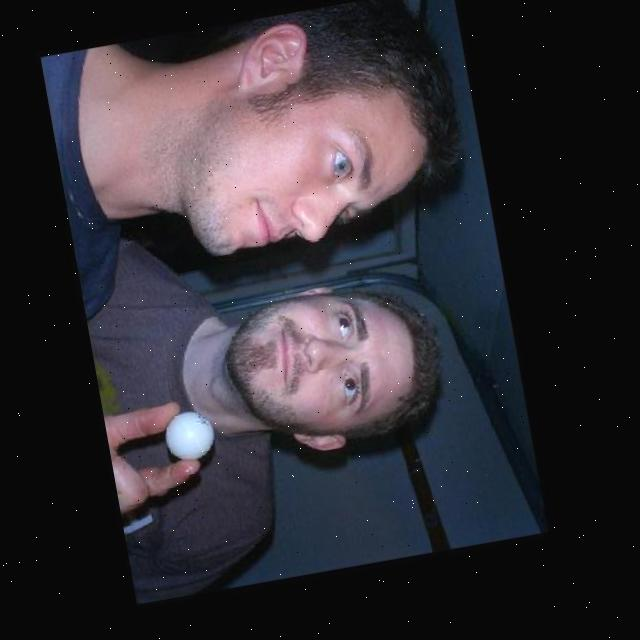ping-pong-ball: (157, 405, 218, 467)
